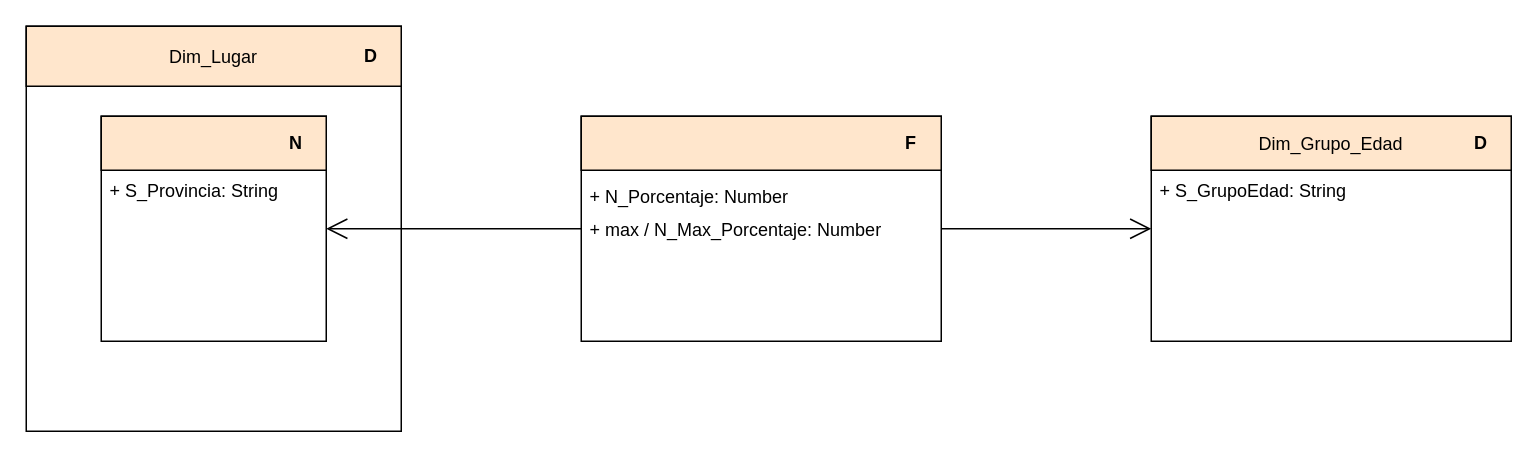
This 1538x458 diagram has some shape labels left out. Each missing label, with the box of its shape:
Fact_Evitacion_Aglomeracion: (580, 115, 941, 170)
Provincia: (100, 115, 326, 170)
